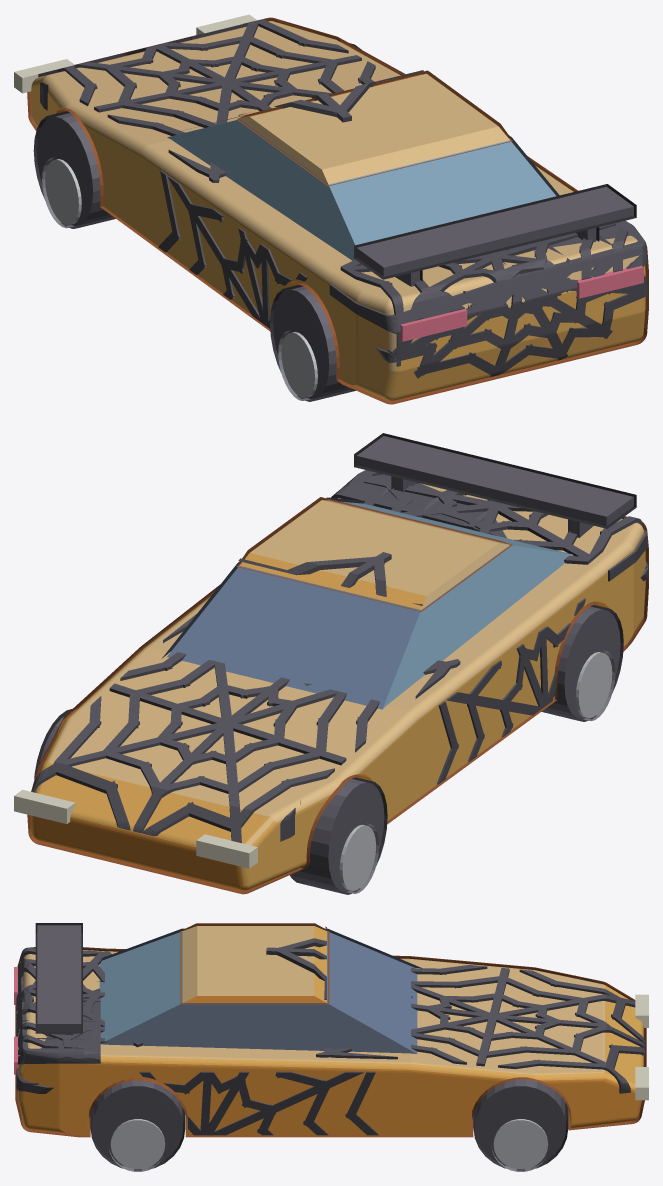
The model's file is car_stinger.glb.
3 renders of one model, top to bottom at view 1: azimuth 30°, elevation 25°; view 2: azimuth 150°, elevation 25°; view 3: azimuth 270°, elevation 25°, orthographic. The views are drawn at different scales.
Visible parts, largest first — view 1: car; view 2: car; view 3: car.
Part boxes in pixels (box(x1,y1,x2,y2)): car: box(14, 14, 648, 404); car: box(14, 433, 648, 894); car: box(14, 923, 648, 1171).
Bounding box in the file's own units: 2.05 × 1.24 × 4.61.
